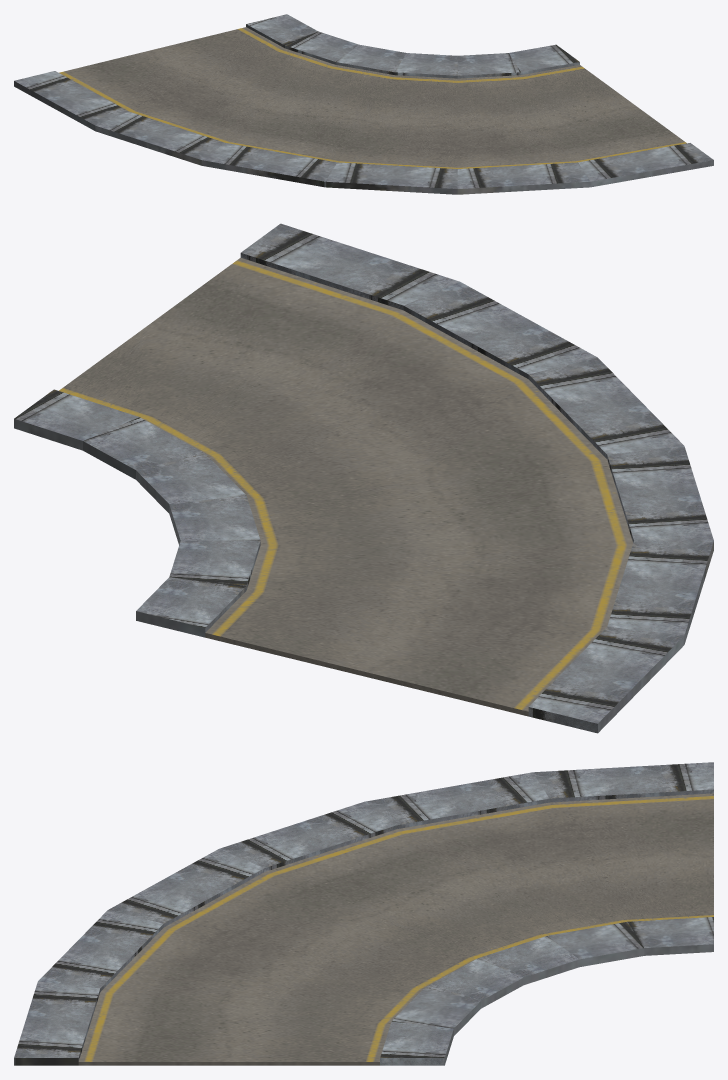
File: Urban_Road2LongCorner_Model.fbx
3 views of the same model, one above another, from view 1: azimuth 30°, elevation 25°; view 2: azimuth 150°, elevation 25°; view 3: azimuth 270°, elevation 25° (orthographic). The views are drawn at different scales.
Parts seen in each view (by area): view 1: Urban_Road2LongCorner_Mesh; view 2: Urban_Road2LongCorner_Mesh; view 3: Urban_Road2LongCorner_Mesh.
Boxes of the visible parts, left/top/right/bottom form: Urban_Road2LongCorner_Mesh: left=14, top=14, right=713, bottom=194; Urban_Road2LongCorner_Mesh: left=14, top=223, right=713, bottom=733; Urban_Road2LongCorner_Mesh: left=14, top=762, right=713, bottom=1065.
Bounding box in the file's own units: 26 × 0.32 × 26.
